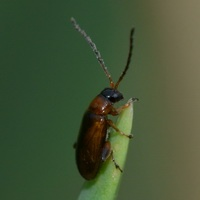insect: (71, 17, 133, 179)
